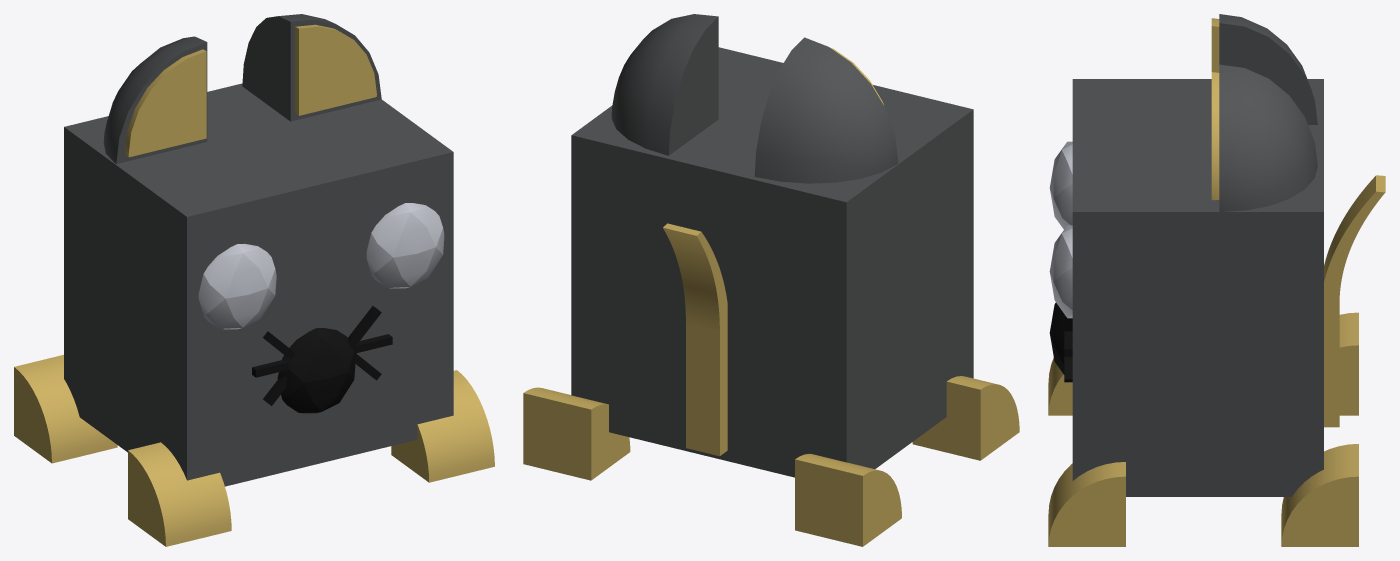
File: Rat.obj
3 views of the same model, side by side, from view 1: azimuth 30°, elevation 25°; view 2: azimuth 150°, elevation 25°; view 3: azimuth 270°, elevation 25° (orthographic). The views are drawn at different scales.
Parts seen in each view (by area): view 1: mergedBlocks; view 2: mergedBlocks; view 3: mergedBlocks.
Part boxes in pixels (x1,y1,x2,y2): mergedBlocks: (14,14,494,546); mergedBlocks: (523,14,1019,546); mergedBlocks: (1048,14,1385,546).
Bounding box in the file's own units: 1 × 1.2 × 0.8681.
